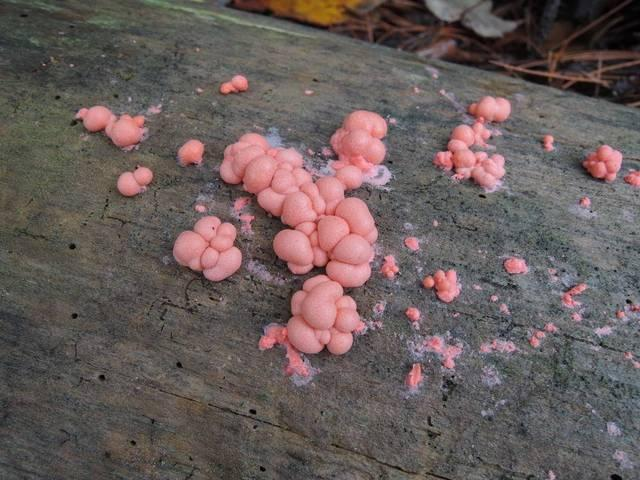Non-edible Mushroom: (215, 110, 390, 374), (433, 94, 512, 192), (285, 275, 361, 355), (171, 214, 242, 281), (581, 143, 623, 182), (342, 109, 388, 139), (105, 113, 143, 148), (72, 104, 114, 133), (175, 138, 205, 167)
